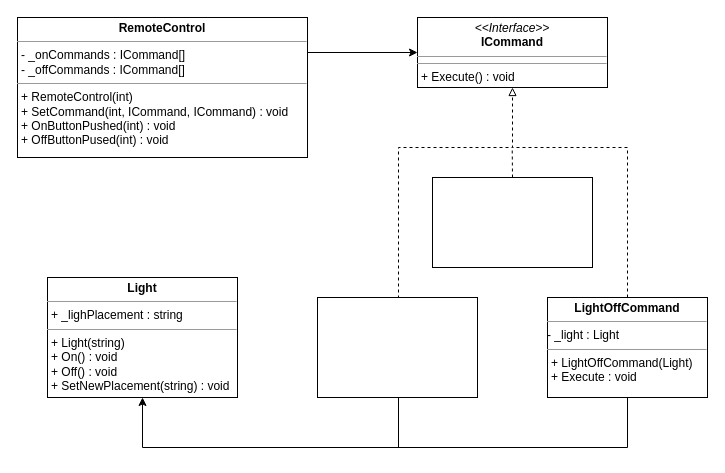
Some shapes in this 725 by 473 pixel diagram are drawn without their labels. Here are the shapes that lost their labels. From the top down, the centre of each, then its label:
At (x=512, y=222): "NoCommand + Execute() : void".
At (x=397, y=347): "LightOnCommand - _light : Light + LightOnCommand(Light) + Execute : void".
